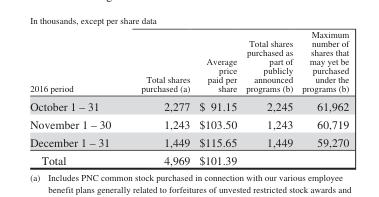table: (29, 29, 348, 166)
table column: (29, 29, 125, 166), (125, 29, 193, 166), (240, 29, 296, 166), (296, 29, 348, 166), (193, 29, 240, 166)
table column header: (29, 29, 348, 96)
table row: (29, 29, 348, 96), (29, 96, 348, 114), (29, 114, 348, 132), (29, 132, 348, 150), (29, 150, 348, 166)
